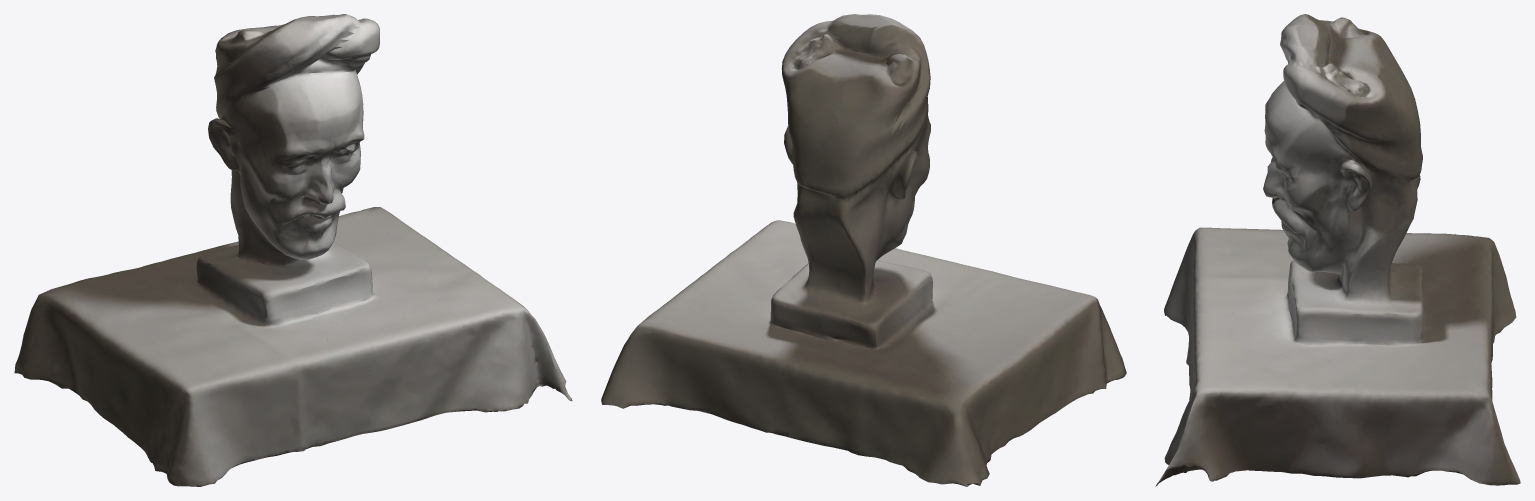
The model's file is 石膏头像_男老年_裹头老农01_opt.glb.
The picture shows the model from 3 angles, left to right: view 1: azimuth 30°, elevation 25°; view 2: azimuth 150°, elevation 25°; view 3: azimuth 270°, elevation 25°; orthographic projection. The views are drawn at different scales.
Parts seen in each view (by area): view 1: defaultMat, defaultMat_1; view 2: defaultMat, defaultMat_1; view 3: defaultMat, defaultMat_1.
Boxes of the visible parts, left/top/right/bottom form: defaultMat: left=14, top=14, right=572, bottom=486; defaultMat_1: left=16, top=15, right=566, bottom=483; defaultMat: left=601, top=14, right=1126, bottom=486; defaultMat_1: left=602, top=15, right=1113, bottom=480; defaultMat: left=1155, top=14, right=1520, bottom=486; defaultMat_1: left=1161, top=19, right=1517, bottom=484.
Size of the model in its own units: 0.3 by 0.2737 by 0.2439.
Materials: 1 (1 with a texture image).
